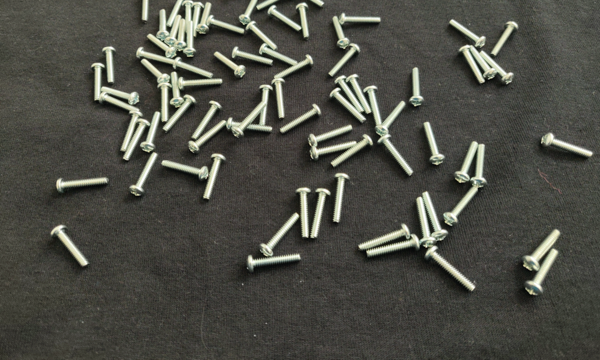longscrew: (424, 246, 478, 293), (523, 248, 561, 297), (522, 229, 563, 274), (259, 212, 300, 257), (49, 224, 90, 269), (377, 134, 415, 177), (358, 223, 412, 252), (443, 186, 480, 228), (541, 133, 594, 160), (422, 191, 450, 242), (329, 87, 367, 124), (367, 234, 421, 260), (188, 120, 228, 155), (163, 94, 198, 134), (129, 152, 159, 198), (331, 135, 374, 167), (231, 101, 267, 139), (280, 104, 324, 135), (191, 100, 224, 141), (479, 50, 516, 86), (122, 118, 152, 161), (374, 100, 407, 138), (334, 75, 366, 114), (415, 196, 438, 249), (246, 252, 301, 274), (345, 74, 373, 116), (203, 154, 228, 201), (310, 187, 332, 240), (458, 45, 487, 85), (328, 43, 361, 78), (454, 140, 480, 184), (449, 19, 487, 49), (161, 160, 210, 183), (274, 54, 315, 81), (119, 111, 145, 153), (469, 45, 499, 81), (308, 124, 353, 148), (330, 173, 351, 224), (423, 121, 446, 167), (309, 140, 357, 162), (491, 21, 520, 57), (246, 21, 279, 52), (267, 4, 302, 33), (259, 43, 299, 68), (98, 91, 141, 114), (294, 187, 312, 241), (56, 177, 110, 195), (214, 51, 248, 79), (173, 57, 214, 80), (140, 111, 162, 153), (231, 46, 274, 67), (226, 117, 273, 136), (206, 15, 246, 36), (469, 144, 488, 188), (364, 85, 383, 129), (140, 59, 171, 85), (136, 46, 176, 66), (146, 33, 178, 58), (101, 87, 140, 106), (408, 67, 425, 107), (258, 85, 274, 126), (157, 83, 173, 124), (332, 16, 351, 50), (271, 78, 286, 121), (178, 77, 224, 91), (164, 14, 183, 47), (90, 63, 106, 102), (166, 0, 188, 28), (238, 0, 261, 26), (296, 2, 311, 41), (102, 46, 117, 85), (170, 71, 185, 109), (339, 13, 382, 26), (183, 20, 198, 57), (197, 2, 213, 35), (191, 1, 205, 38), (156, 8, 170, 41), (182, 0, 195, 35), (257, 0, 294, 12), (174, 18, 187, 52), (139, 0, 153, 24), (290, 0, 325, 9)
